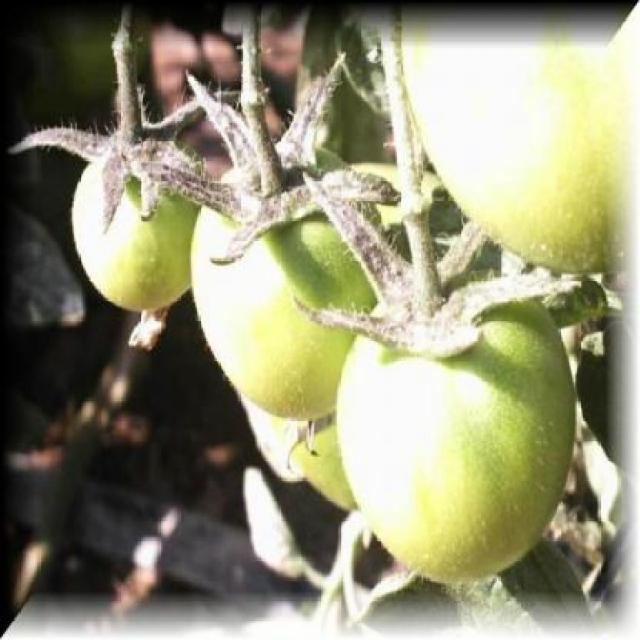Tomato: (290, 167, 604, 587), (148, 60, 402, 428), (395, 0, 638, 275), (9, 90, 242, 312)
